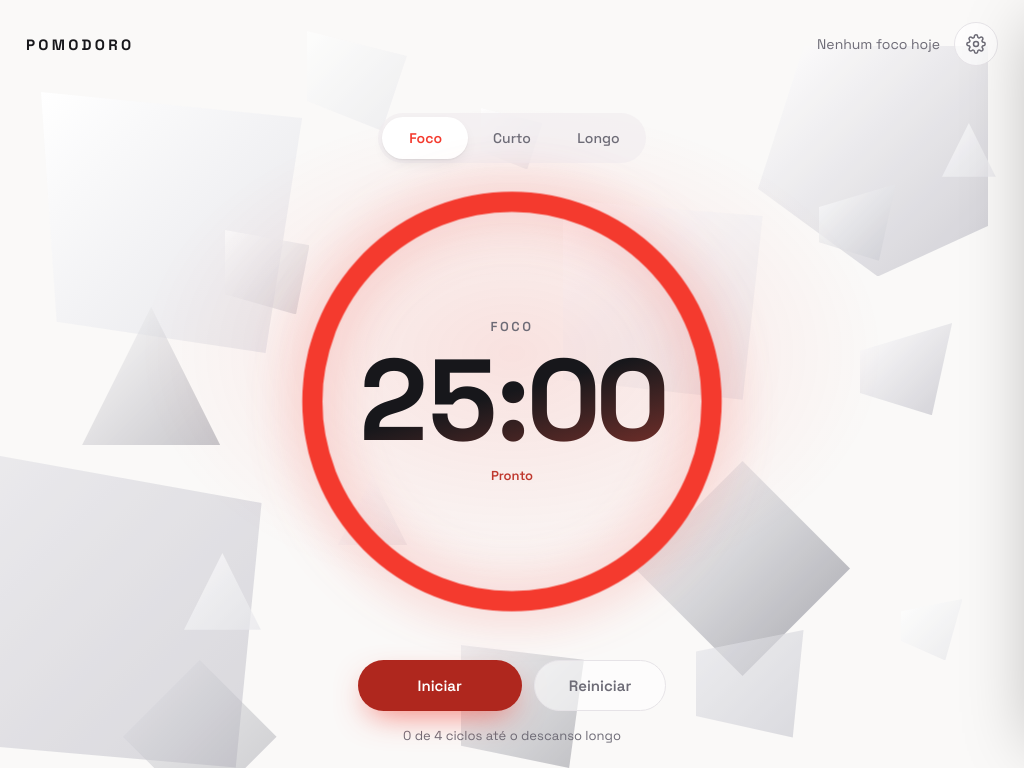
Scenario: App › starts, pauses and resumes
What coordinates should you click on to do the following:
click the button "Iniciar"
I would click on:
 (440, 685)
Its box is [358, 660, 522, 710].
Wait 60000 ms
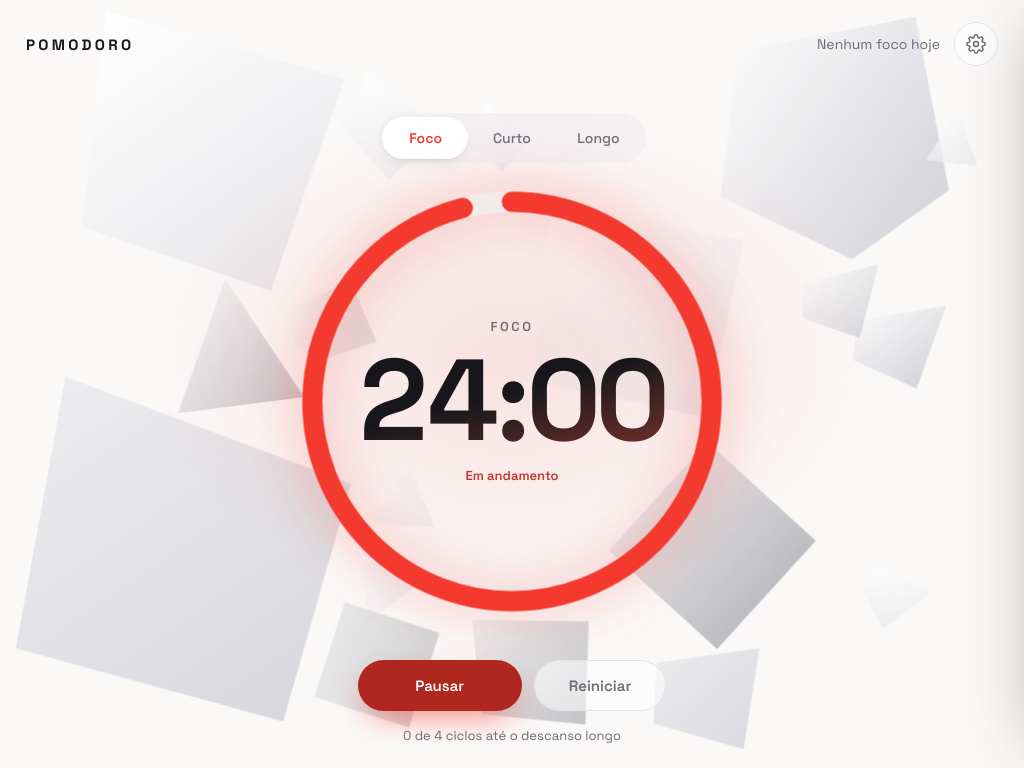
expect the button "Pausar" is shown: met
expect the text "24:00" is shown: met, box [358, 343, 666, 459]
What coordinates should you click on to do the following:
click the button "Pausar"
I would click on:
 (440, 685)
Its box is [358, 660, 522, 710].
Wait 10000 ms
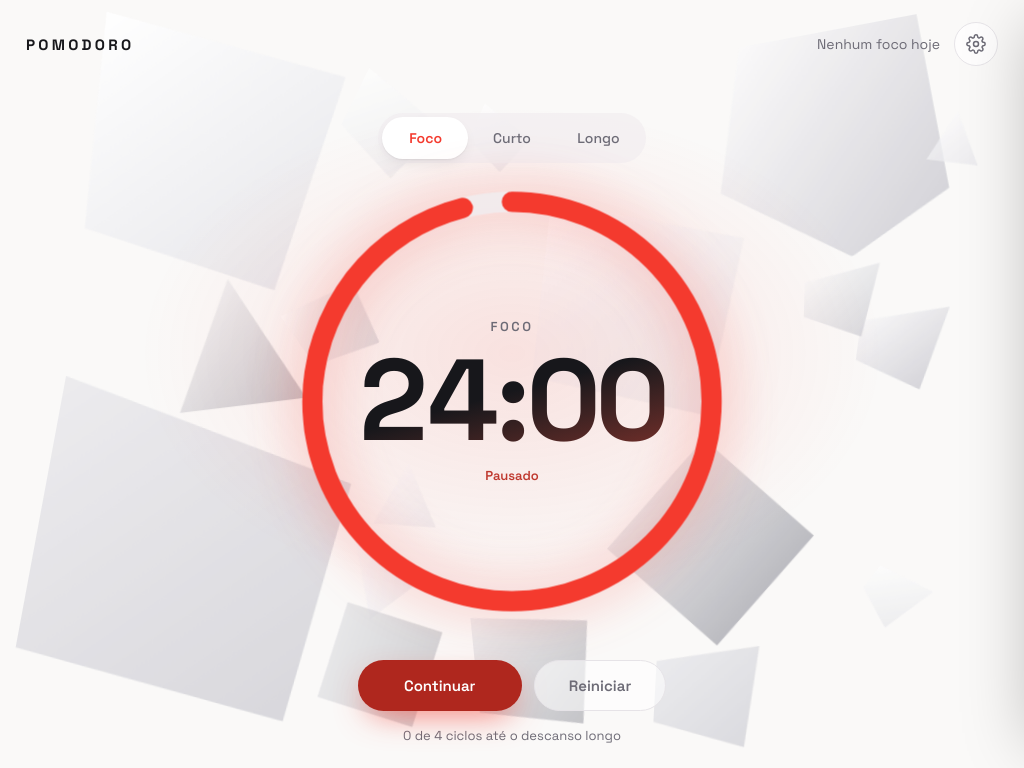
expect the text "24:00" is shown: met, box [358, 343, 666, 459]
What coordinates should you click on to do the following:
click the button "Continuar"
I would click on:
 (440, 685)
Its box is [358, 660, 522, 710].
Wait 60000 ms
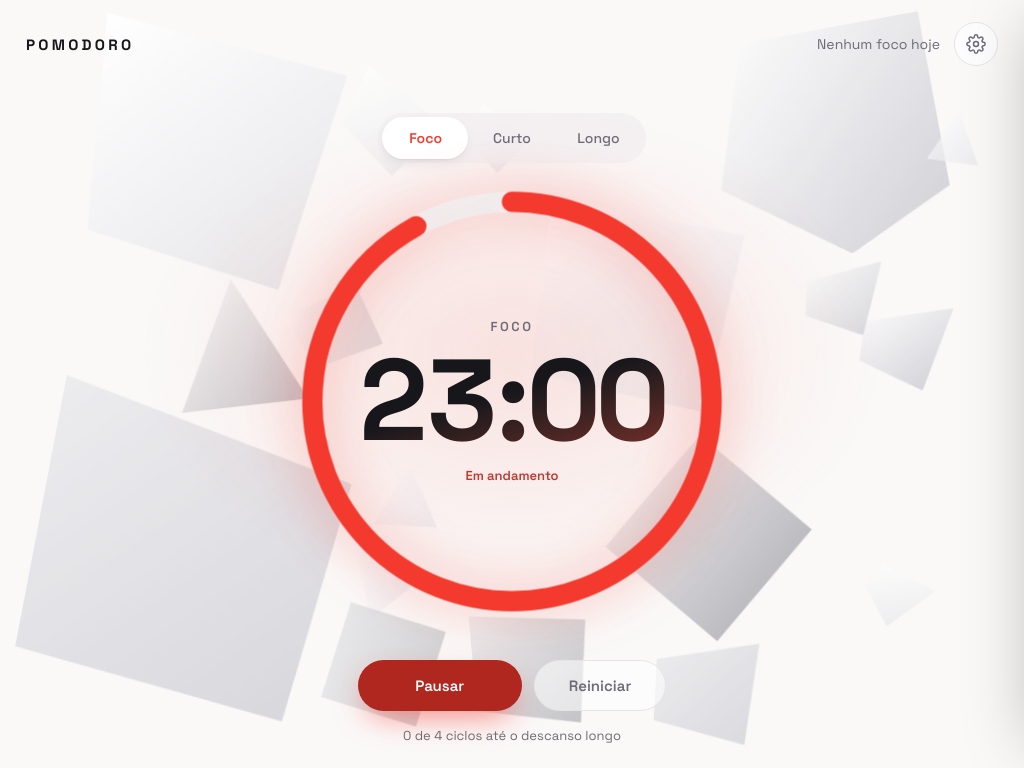
expect the text "23:00" is shown: met, box [358, 343, 666, 459]
